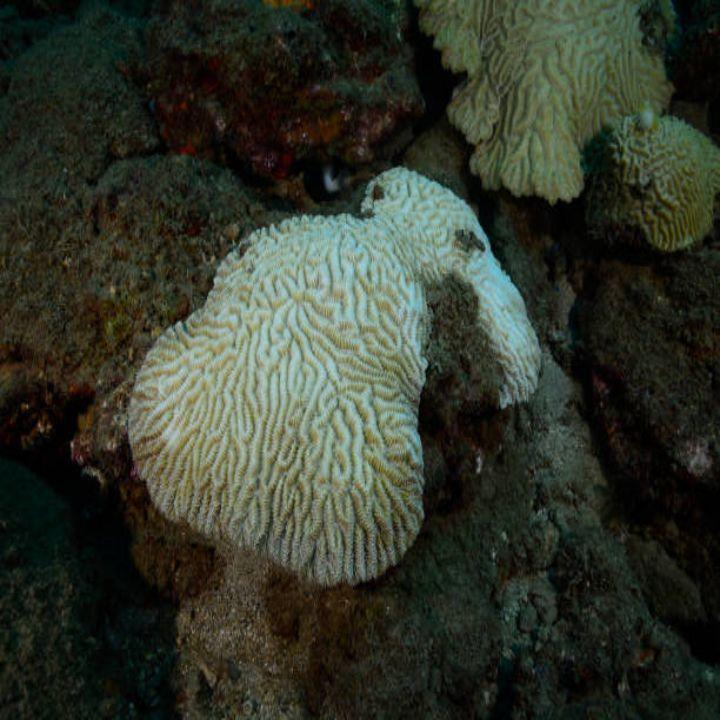Bleached-disease: (74, 105, 600, 648)
